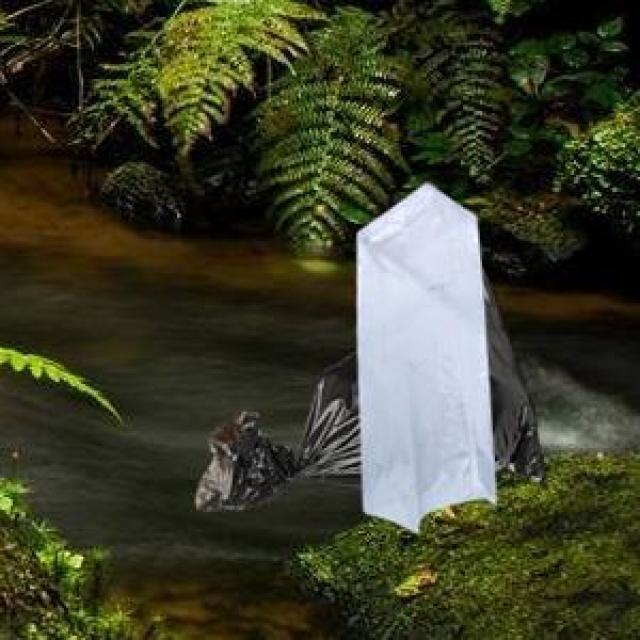miscellaneous trash: (192, 258, 542, 506)
